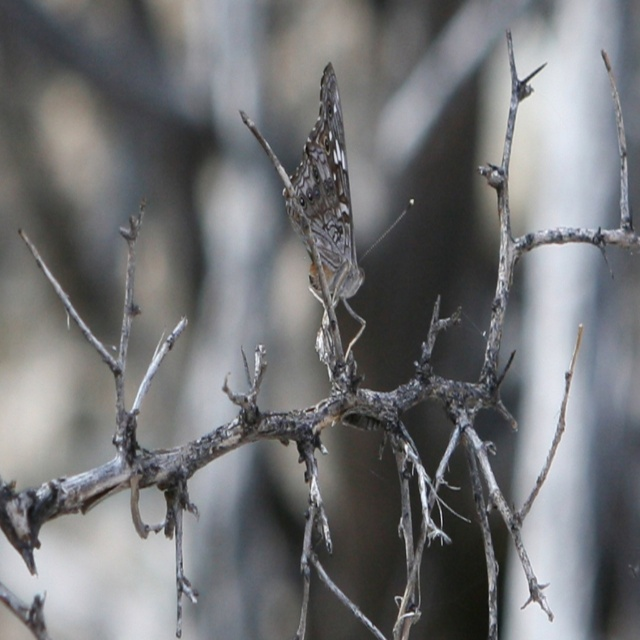Butterfly: (283, 62, 414, 364)
